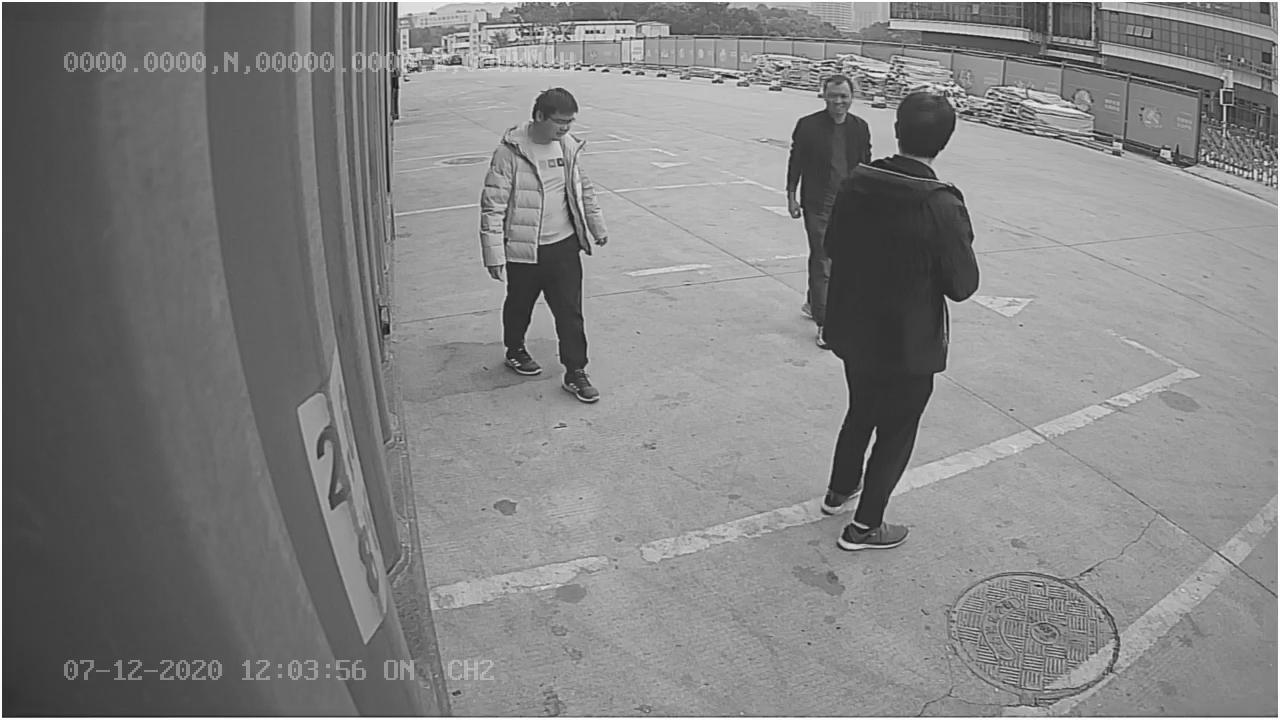person: (474, 81, 619, 405)
